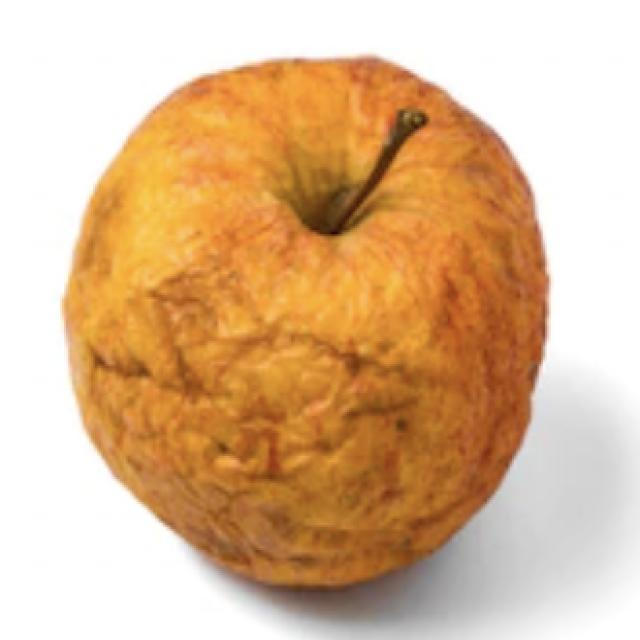Rotten: (60, 49, 550, 594)
